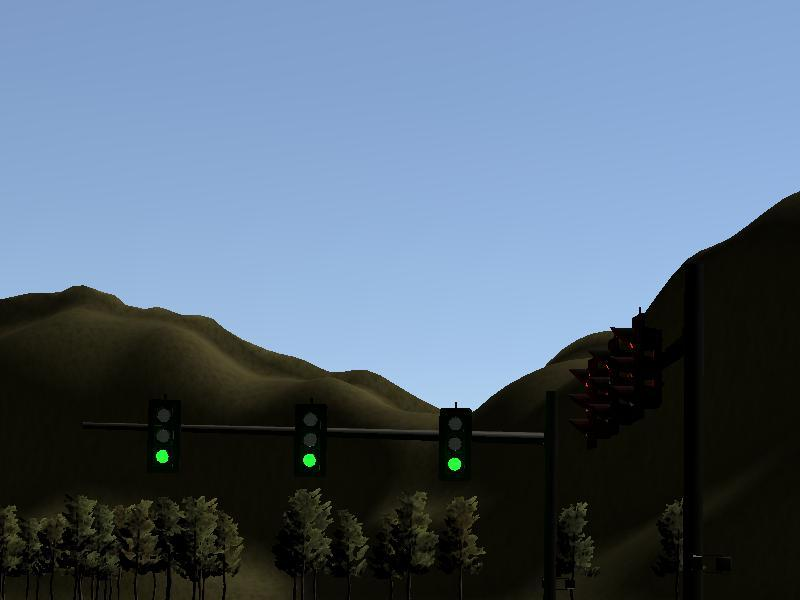Green: (292, 405, 327, 477), (438, 408, 471, 482), (149, 401, 176, 471)
